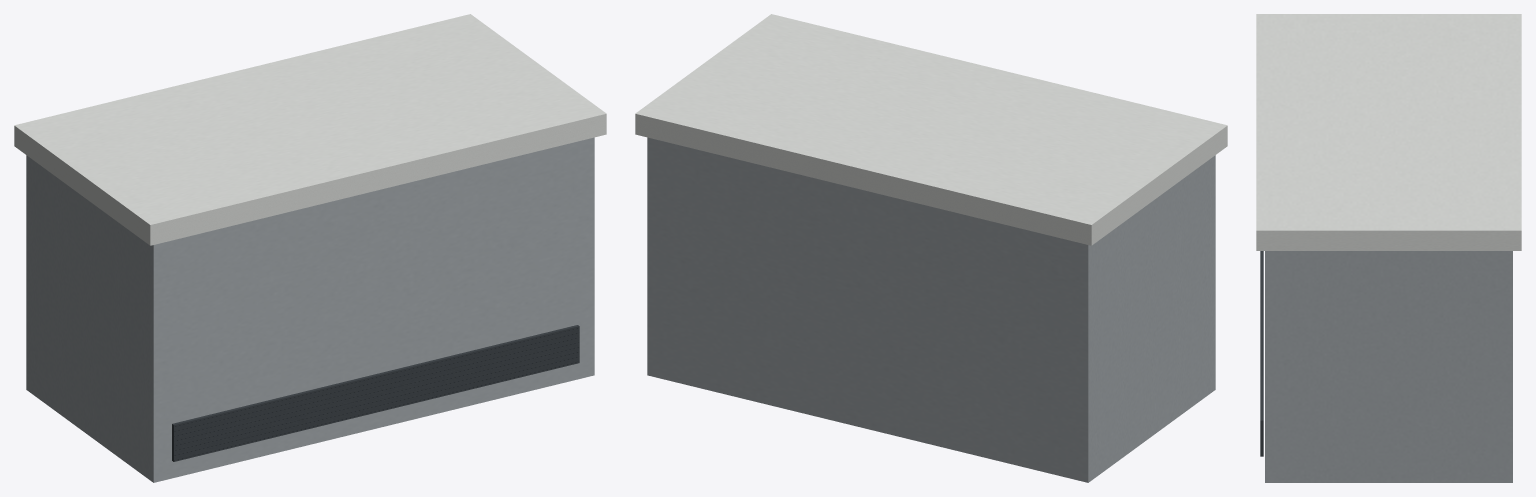
File: Counter_2x1.obj
3 views of the same model, side by side, from view 1: azimuth 30°, elevation 25°; view 2: azimuth 150°, elevation 25°; view 3: azimuth 270°, elevation 25° (orthographic). The views are drawn at different scales.
Parts seen in each view (by area): view 1: Counter_2x1; view 2: Counter_2x1; view 3: Counter_2x1.
Boxes of the visible parts, x1,y1,x2,y2 form: Counter_2x1: [14, 14, 606, 482]; Counter_2x1: [635, 14, 1227, 482]; Counter_2x1: [1256, 14, 1521, 482].
Bounding box in the file's own units: 2.07 × 1.14 × 1.07.
Materials: 3 (3 with a texture image).
